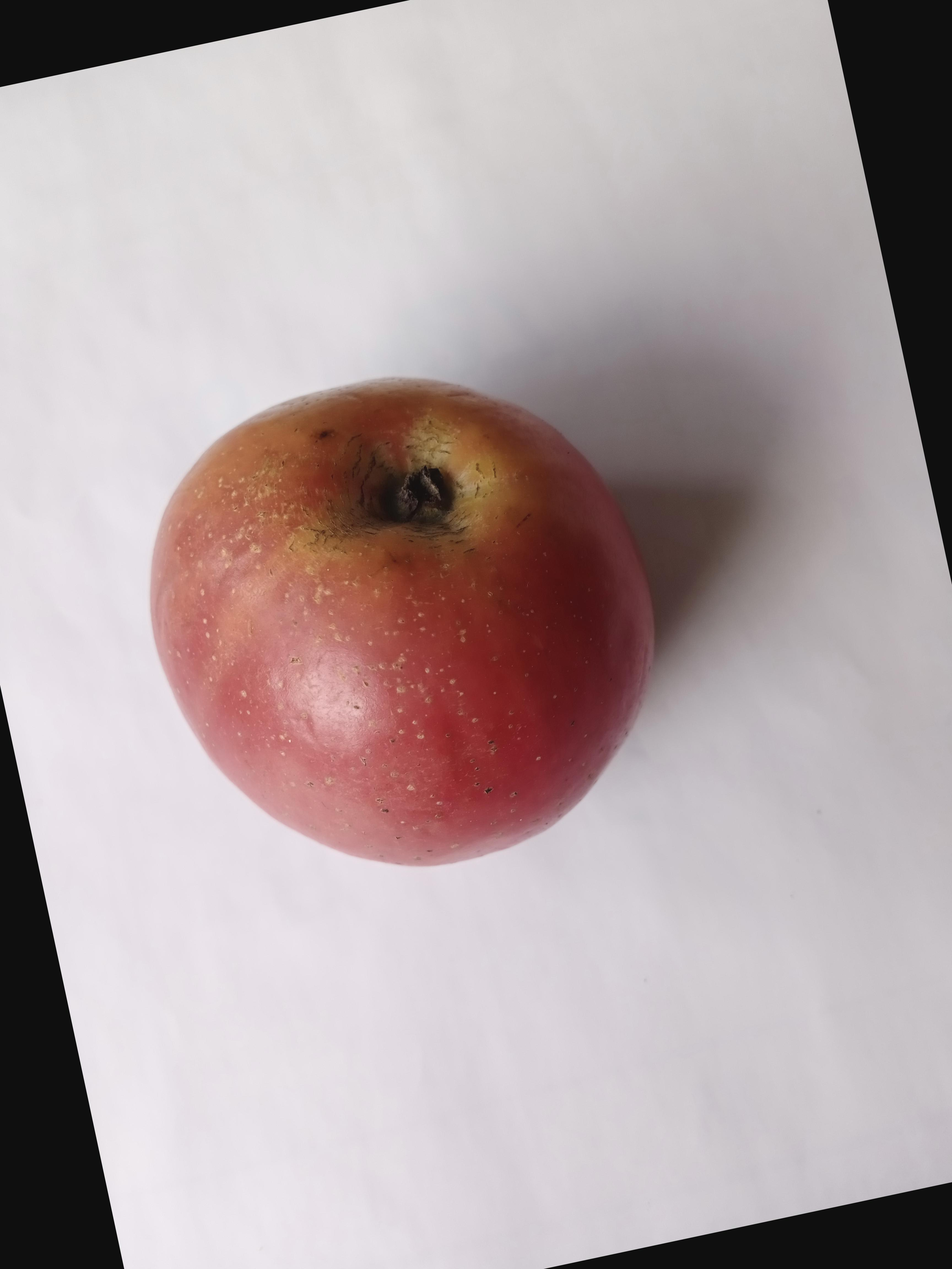Apple Ripe: (0, 454, 577, 1083)
